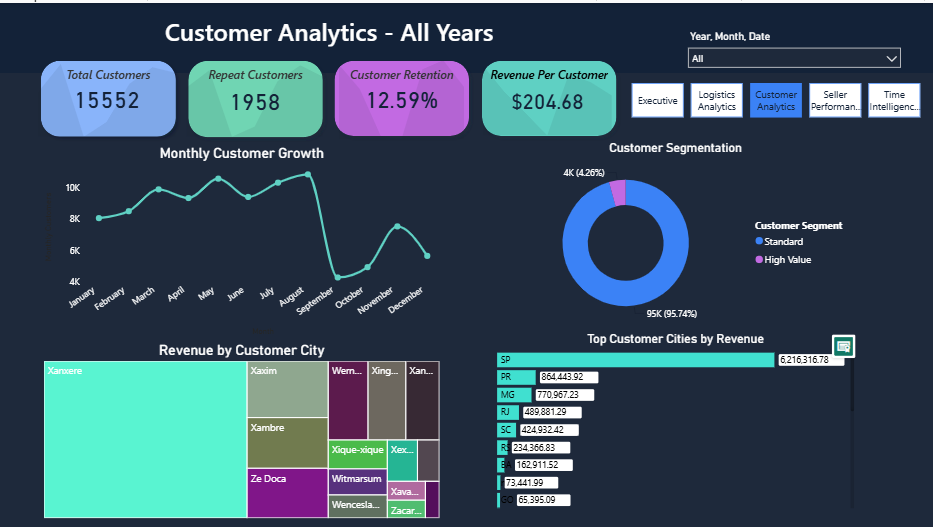

What the dashboard file says about the page in this screenshot:
{"tool":"powerbi","page":{"name":"Customer Analytics","canvas":[1280,720],"ordinal":2},"visuals":[{"type":"shape","box":[0,0,1280,95.8],"z":0},{"type":"shape","box":[49.6,70.6,202.9,121.8],"z":0,"group":"g1"},{"type":"shape","box":[653.6,70.2,202,120.8],"z":1000,"group":"g1"},{"type":"cardVisual","fields":{"Data":["Dim_Date.Customer Analytics Title"]},"box":[6.8,6.8,893.3,82.1],"z":2000},{"type":"kpi","fields":{"TrendLine":["Dim_Date.Day Name"],"Indicator":["Dim_Date.Total Customers"]},"box":[49.7,78,198.5,109.5],"z":2000,"group":"g1"},{"type":"slicer","fields":{"Values":["Dim_Date.Year","Dim_Date.Month","Dim_Date.Date"]},"box":[934.3,32.5,311.4,75.3],"z":3000},{"type":"kpi","fields":{"TrendLine":["Dim_Date.Day Name"],"Indicator":["fact_orders.Revenue Per Customer"]},"box":[659,81.2,186.5,106.1],"z":3000,"group":"g1"},{"type":"shape","box":[252.2,70.2,202.1,122.6],"z":4000,"group":"g1"},{"type":"lineChart","title":"Monthly Customer Growth","fields":{"Y":["Dim_Date.Monthly Customers"],"Category":["Dim_Date.Month"]},"box":[57.8,194.7,551,265.2],"z":4000},{"type":"shape","box":[451.5,70.8,202.2,120.8],"z":5000,"group":"g1"},{"type":"horizontalBarChartPBICraft","title":"Top Customer Cities by Revenue","fields":{"measure":["Dim_Date.Revenue"],"category":["dim_sellers.seller_state"]},"box":[677.6,450.1,499.7,246.4],"z":5000},{"type":"kpi","fields":{"TrendLine":["Dim_Date.Day Name"],"Indicator":["fact_orders.Repeat Customers"]},"box":[253.5,80,197,108],"z":6000,"group":"g1"},{"type":"treemap","title":"Revenue by Customer City","fields":{"Values":["Dim_Date.Revenue"],"Group":["dim_customer.customer_city"]},"box":[57.8,463.4,551,246.4],"z":6000},{"type":"kpi","fields":{"TrendLine":["Dim_Date.Day Name"],"Indicator":["fact_orders.Customer Retention %"]},"box":[462.1,72.9,181.4,118.1],"z":7000,"group":"g1"},{"type":"pageNavigator","box":[867.6,109.5,395.3,47.9],"z":7000},{"type":"group","id":"g1","title":"Group 1","box":[49.6,70.2,806,123.2],"z":8000},{"type":"donutChart","title":"Customer Segmentation","fields":{"Y":["Dim_Date.Total Orders"],"Category":["fact_orders.Customer Segment"]},"box":[677.6,188.2,499.7,261.8],"z":9000}]}

Visuals, with their boxes in screenshot pixels (x1, y1, x2, y2), scaled from the page's 1280x720 canvas onto the 933x527 screenshot:
shape: {"left": 0, "top": 0, "right": 932, "bottom": 70}
shape: {"left": 36, "top": 52, "right": 184, "bottom": 141}
shape: {"left": 476, "top": 51, "right": 624, "bottom": 140}
cardVisual - Dim_Date.Customer Analytics Title: {"left": 5, "top": 5, "right": 656, "bottom": 65}
kpi - Dim_Date.Day Name x Dim_Date.Total Customers: {"left": 36, "top": 57, "right": 181, "bottom": 137}
slicer - Dim_Date.Year x Dim_Date.Month: {"left": 681, "top": 24, "right": 908, "bottom": 79}
kpi - Dim_Date.Day Name x fact_orders.Revenue Per Customer: {"left": 480, "top": 59, "right": 616, "bottom": 137}
shape: {"left": 184, "top": 51, "right": 331, "bottom": 141}
"Monthly Customer Growth" lineChart: {"left": 42, "top": 143, "right": 444, "bottom": 337}
shape: {"left": 329, "top": 52, "right": 476, "bottom": 140}
"Top Customer Cities by Revenue" horizontalBarChartPBICraft: {"left": 494, "top": 329, "right": 858, "bottom": 510}
kpi - Dim_Date.Day Name x fact_orders.Repeat Customers: {"left": 185, "top": 59, "right": 328, "bottom": 138}
"Revenue by Customer City" treemap: {"left": 42, "top": 339, "right": 444, "bottom": 520}
kpi - Dim_Date.Day Name x fact_orders.Customer Retention %: {"left": 337, "top": 53, "right": 469, "bottom": 140}
pageNavigator: {"left": 632, "top": 80, "right": 921, "bottom": 115}
"Group 1" group: {"left": 36, "top": 51, "right": 624, "bottom": 142}
"Customer Segmentation" donutChart: {"left": 494, "top": 138, "right": 858, "bottom": 329}
